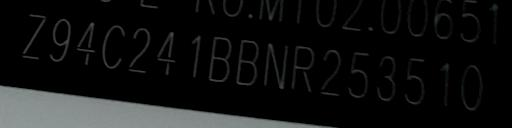letter: (400, 55, 432, 108), (456, 62, 488, 113), (345, 48, 373, 103), (373, 52, 401, 106), (290, 41, 316, 97), (318, 45, 344, 100), (234, 37, 260, 89), (206, 35, 232, 85), (262, 39, 286, 89), (22, 12, 46, 61), (48, 15, 72, 64), (154, 29, 178, 78), (433, 58, 457, 107), (74, 18, 98, 66), (101, 23, 125, 71), (128, 26, 152, 73), (182, 32, 204, 78)
